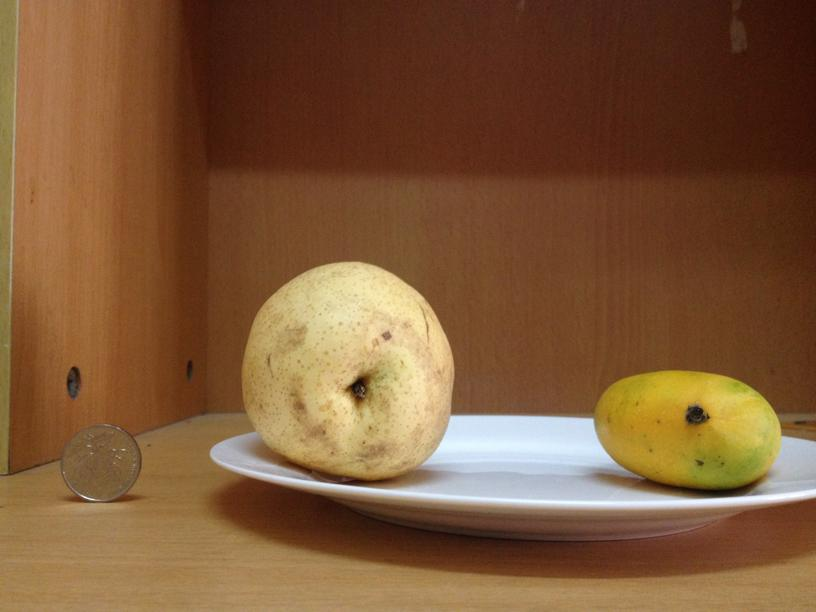coin: (60, 422, 142, 502)
mango: (593, 371, 780, 486)
pear: (237, 264, 452, 479)
